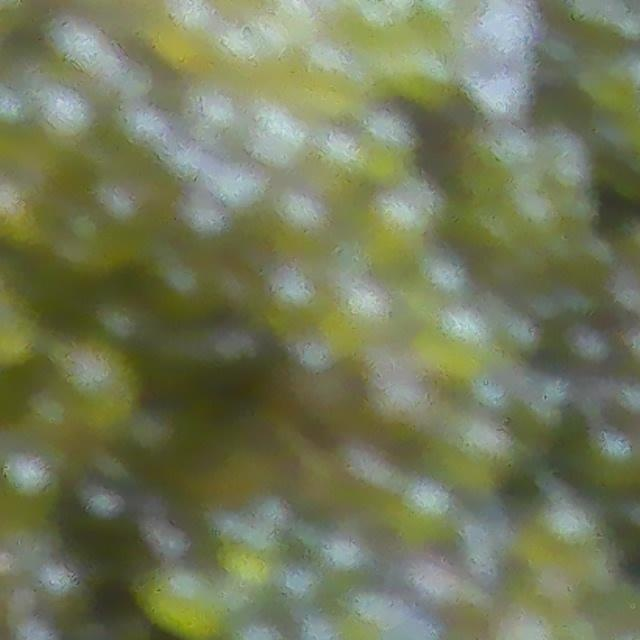SeaGrape: (251, 108, 310, 167), (38, 86, 94, 144)
